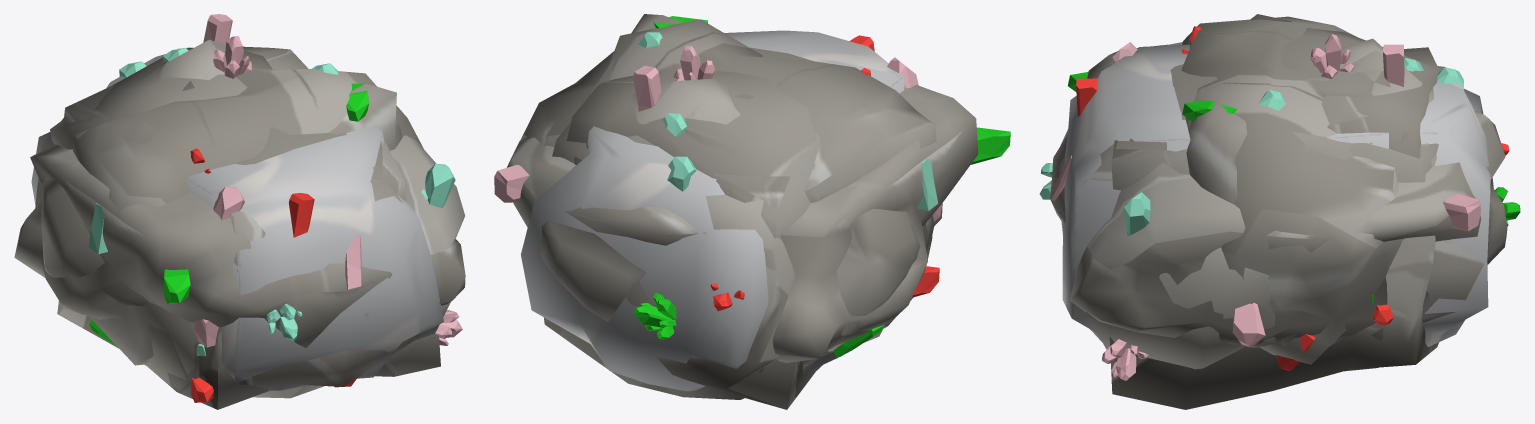
The model's file is rocks.glb.
The picture shows the model from 3 angles, left to right: view 1: azimuth 30°, elevation 25°; view 2: azimuth 150°, elevation 25°; view 3: azimuth 270°, elevation 25°; orthographic projection. The views are drawn at different scales.
Parts seen in each view (by area): view 1: rock_rect1, rock_rough4, rock_rough2, rock_rect3, rock_rough5, rock_rect2, rock_rect4, rock_rough3, crystal.072, crystal.086, crystal.025, crystal.085 (+9 smaller); view 2: rock_rect1, rock_rough4, rock_rough2, rock_rect3, rock_rough5, rock_rect2, rock_rect4, crystal.026, crystal.103, crystal.088, crystal.085, crystal.072 (+5 smaller); view 3: rock_rough2, rock_rough4, rock_rect1, rock_rect4, rock_rough5, rock_rect3, rock_rough3, rock_rect2, crystal.072, crystal.101, crystal.088, crystal.046 (+4 smaller).
Boxes of the visible parts, x1=… form: rock_rect1: x1=31, y1=47, x2=443, y2=390; rock_rough4: x1=14, y1=135, x2=465, y2=347; rock_rough2: x1=73, y1=50, x2=423, y2=365; rock_rect3: x1=50, y1=46, x2=308, y2=381; rock_rough5: x1=41, y1=39, x2=450, y2=398; rock_rect2: x1=35, y1=118, x2=414, y2=386; rock_rect4: x1=63, y1=84, x2=440, y2=409; rock_rough3: x1=328, y1=82, x2=402, y2=150; crystal.072: x1=213, y1=35, x2=251, y2=78; crystal.086: x1=425, y1=164, x2=455, y2=208; crystal.025: x1=289, y1=193, x2=314, y2=237; crystal.085: x1=164, y1=269, x2=190, y2=303; rock_rect1: x1=521, y1=30, x2=942, y2=391; rock_rough4: x1=507, y1=85, x2=978, y2=362; rock_rough2: x1=521, y1=19, x2=936, y2=351; rock_rect3: x1=566, y1=71, x2=933, y2=373; rock_rough5: x1=574, y1=78, x2=928, y2=346; rock_rect2: x1=626, y1=47, x2=822, y2=409; rock_rect4: x1=544, y1=122, x2=932, y2=399; crystal.026: x1=633, y1=293, x2=676, y2=339; crystal.103: x1=633, y1=65, x2=661, y2=111; crystal.088: x1=494, y1=164, x2=529, y2=202; crystal.085: x1=971, y1=127, x2=1010, y2=164; crystal.072: x1=673, y1=46, x2=714, y2=80; rock_rough2: x1=1181, y1=16, x2=1404, y2=364; rock_rough4: x1=1050, y1=42, x2=1507, y2=347; rock_rect1: x1=1061, y1=44, x2=1493, y2=346; rock_rect4: x1=1109, y1=47, x2=1438, y2=409; rock_rough5: x1=1085, y1=38, x2=1436, y2=369; rock_rect3: x1=1250, y1=14, x2=1441, y2=158; rock_rough3: x1=1185, y1=101, x2=1383, y2=346; rock_rect2: x1=1090, y1=64, x2=1483, y2=371; crystal.072: x1=1310, y1=34, x2=1354, y2=78; crystal.101: x1=1232, y1=302, x2=1265, y2=347; crystal.088: x1=1442, y1=193, x2=1480, y2=231; crystal.046: x1=1102, y1=339, x2=1148, y2=380.
Bounding box in the file's own units: 4.29 × 3.6 × 4.76.
2 materials, 2 textured.
